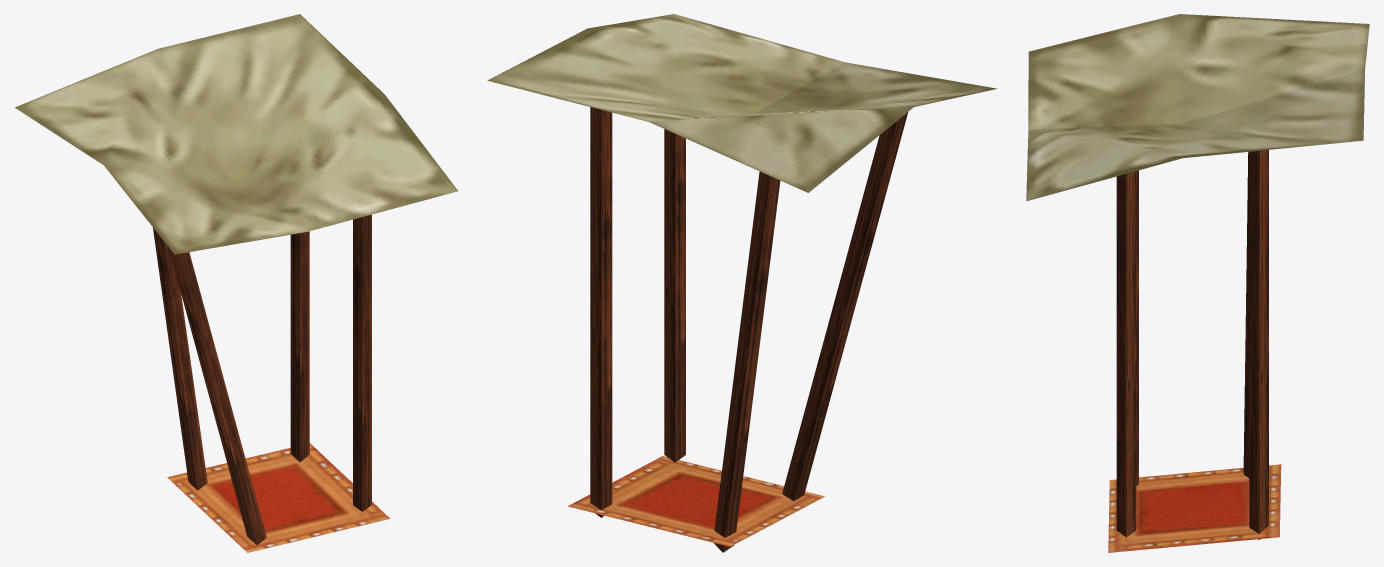
Rendered from shan.fbx.
3 renders of one model, left to right at view 1: azimuth 30°, elevation 25°; view 2: azimuth 150°, elevation 25°; view 3: azimuth 270°, elevation 25°, orthographic. The views are drawn at different scales.
Visible parts, largest first — view 1: pPlane7, pPlane6, pCylinder2, pCylinder1, pCylinder4, pCylinder3; view 2: pPlane7, pPlane6, pCylinder3, pCylinder2, pCylinder4, pCylinder1; view 3: pPlane7, pPlane6, pCylinder3, pCylinder1, pCylinder4, pCylinder2.
Part boxes in pixels (x1=…): pPlane7: x1=15, y1=14, x2=457, y2=254; pPlane6: x1=167, y1=443, x2=390, y2=552; pCylinder2: x1=168, y1=247, x2=266, y2=545; pCylinder1: x1=353, y1=214, x2=371, y2=511; pCylinder4: x1=153, y1=228, x2=207, y2=490; pCylinder3: x1=290, y1=231, x2=309, y2=462; pPlane7: x1=487, y1=14, x2=996, y2=192; pPlane6: x1=568, y1=456, x2=824, y2=546; pCylinder3: x1=590, y1=107, x2=612, y2=517; pCylinder2: x1=782, y1=112, x2=908, y2=500; pCylinder4: x1=714, y1=171, x2=780, y2=552; pCylinder1: x1=664, y1=129, x2=685, y2=462; pPlane7: x1=1026, y1=14, x2=1369, y2=201; pPlane6: x1=1108, y1=464, x2=1281, y2=552; pCylinder3: x1=1249, y1=150, x2=1268, y2=539; pCylinder1: x1=1116, y1=171, x2=1136, y2=537; pCylinder4: x1=1243, y1=152, x2=1249, y2=477; pCylinder2: x1=1136, y1=170, x2=1138, y2=485.
Size of the model in its own units: 6.01 by 8.25 by 5.97.
